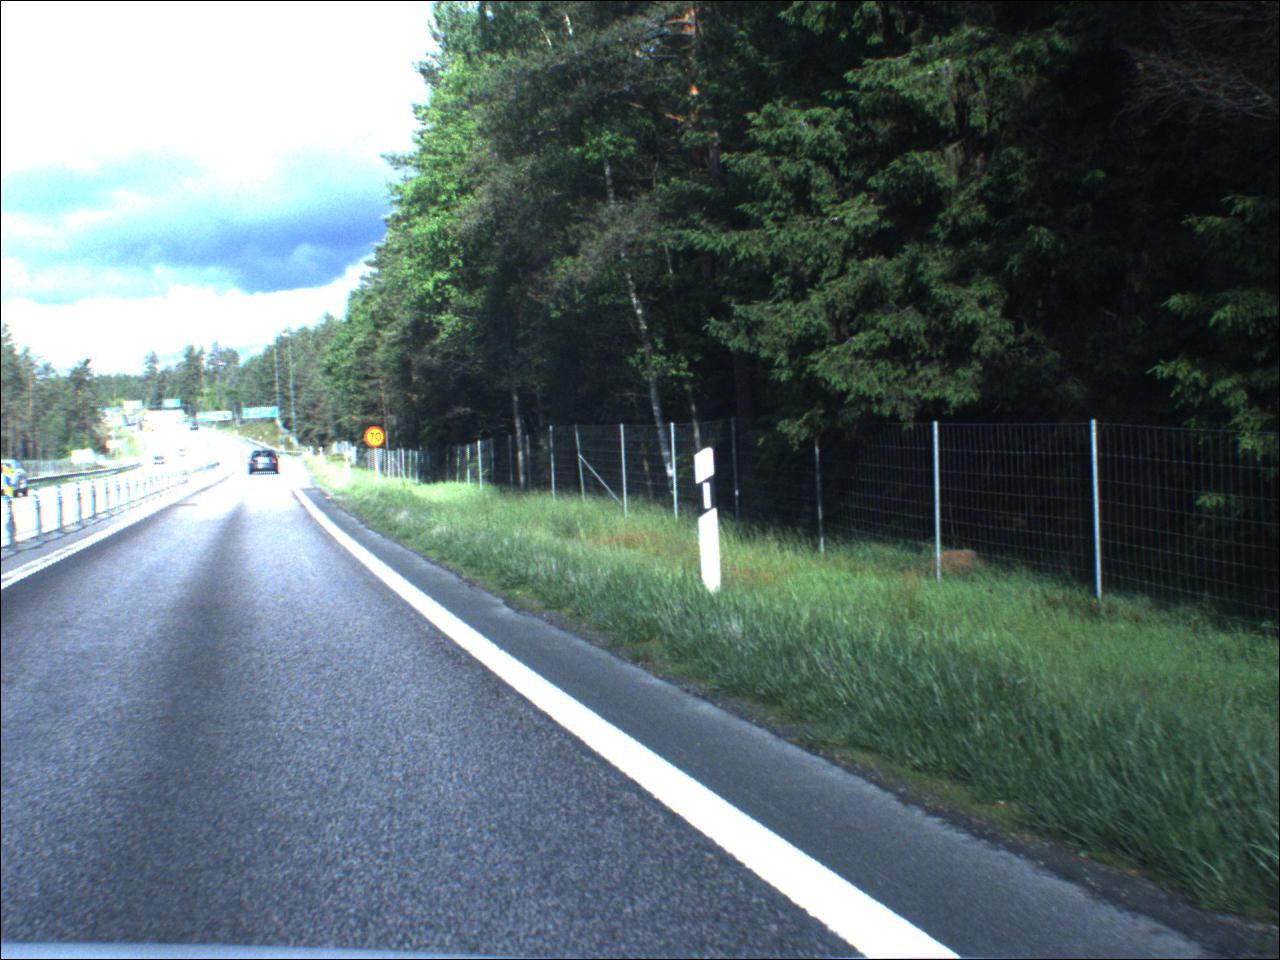70_SIGN: (365, 427, 388, 452)
